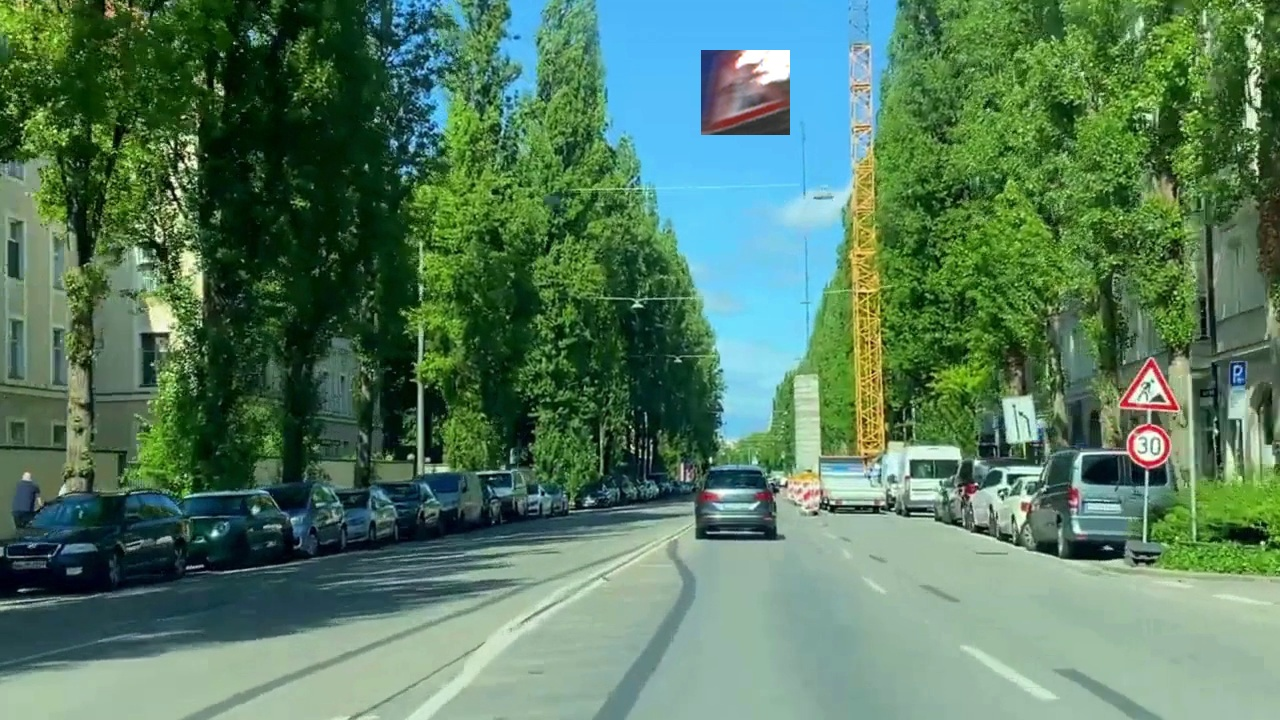Road work: (701, 50, 790, 135)
